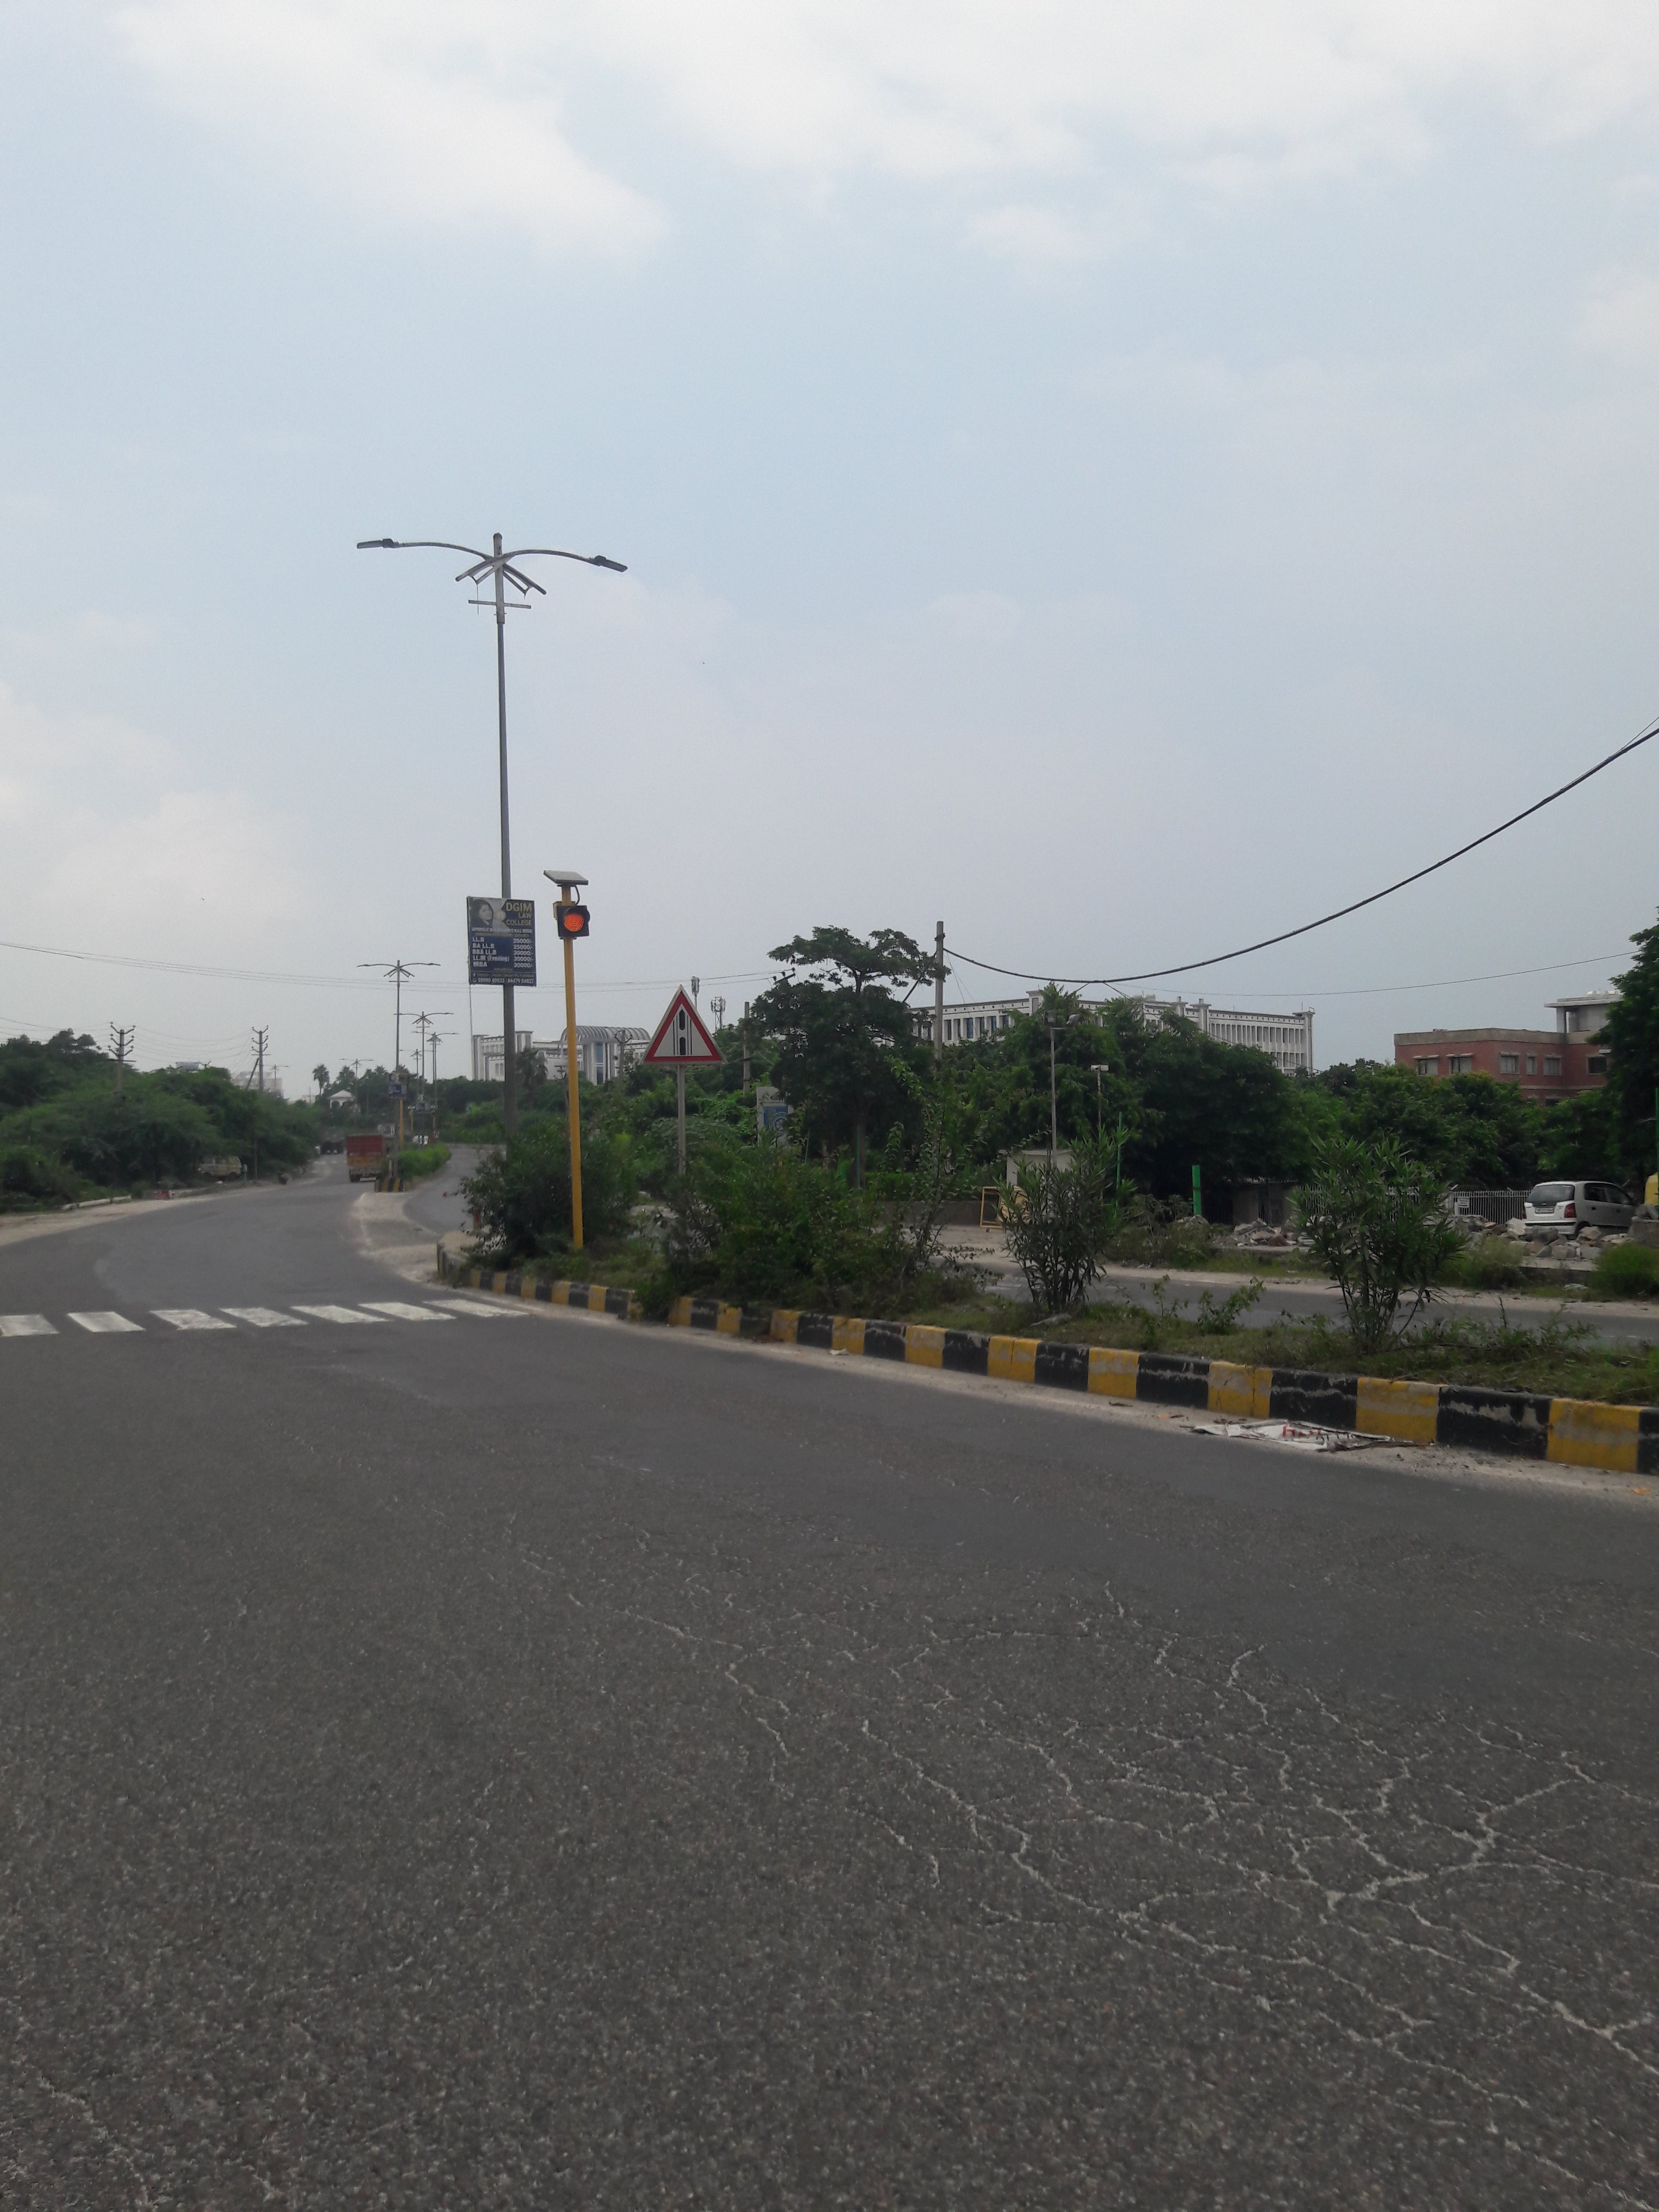traffic_sign: (641, 984, 721, 1064), (556, 904, 589, 942)
